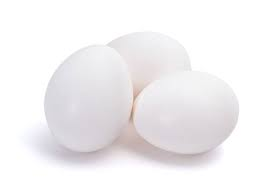eggs: (51, 36, 125, 154), (108, 10, 198, 62)
